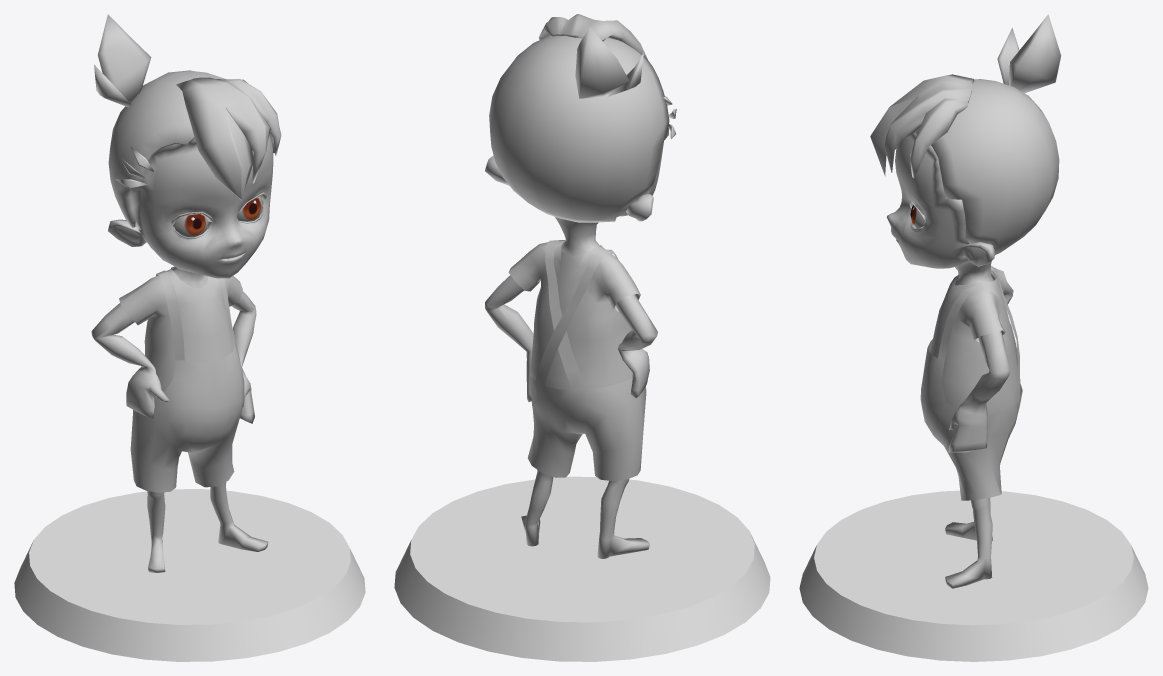
File: 5.04_DeadCare_3D_mesh_fbx.fbx
The picture shows the model from 3 angles, left to right: view 1: azimuth 30°, elevation 25°; view 2: azimuth 150°, elevation 25°; view 3: azimuth 270°, elevation 25°; orthographic projection. The views are drawn at different scales.
Visible parts, largest first — view 1: GirlModel, Circle, GirlModel.001; view 2: Circle, GirlModel, GirlModel.001; view 3: Circle, GirlModel, GirlModel.001.
Boxes of the visible parts, box(x1,y1,x2,y2) form: GirlModel: box(91, 14, 281, 572); Circle: box(14, 489, 365, 661); GirlModel.001: box(119, 266, 242, 392); Circle: box(394, 476, 770, 661); GirlModel: box(485, 14, 676, 558); GirlModel.001: box(508, 240, 640, 390); Circle: box(799, 490, 1148, 661); GirlModel: box(870, 14, 1061, 588); GirlModel.001: box(930, 266, 1017, 415).
Size of the model in its own units: 62.1 by 108 by 62.1.
